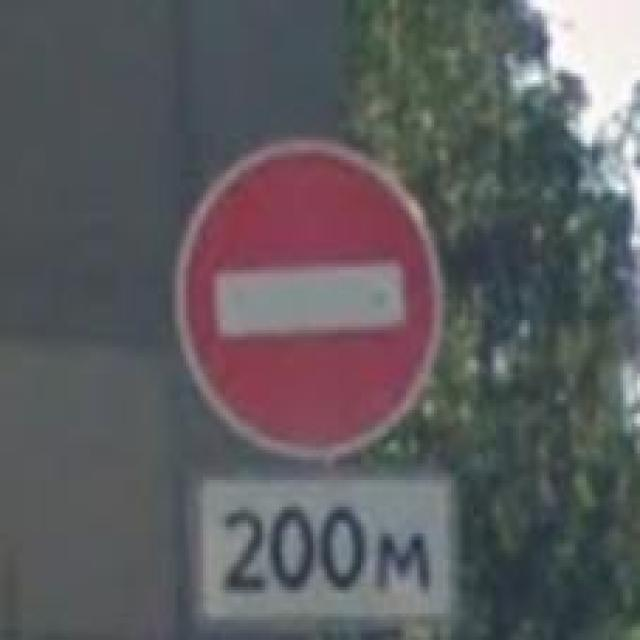Zakaz wjazdu: (172, 137, 445, 460)
